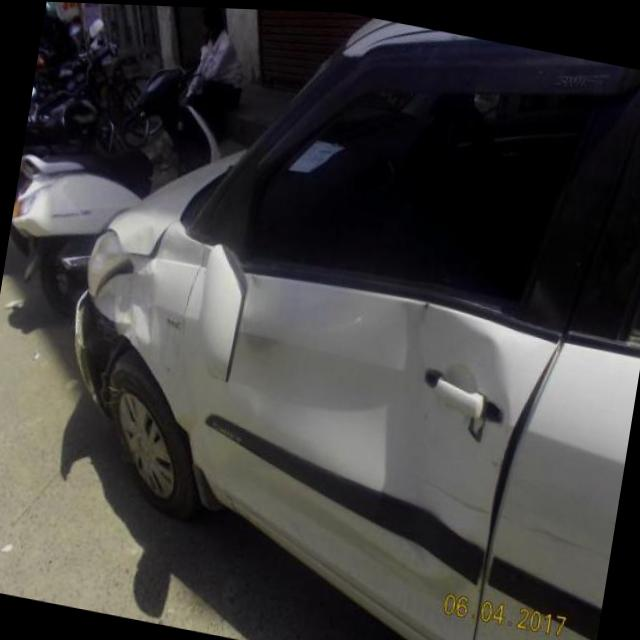Car-Damage: (66, 206, 266, 507), (361, 295, 527, 588)
